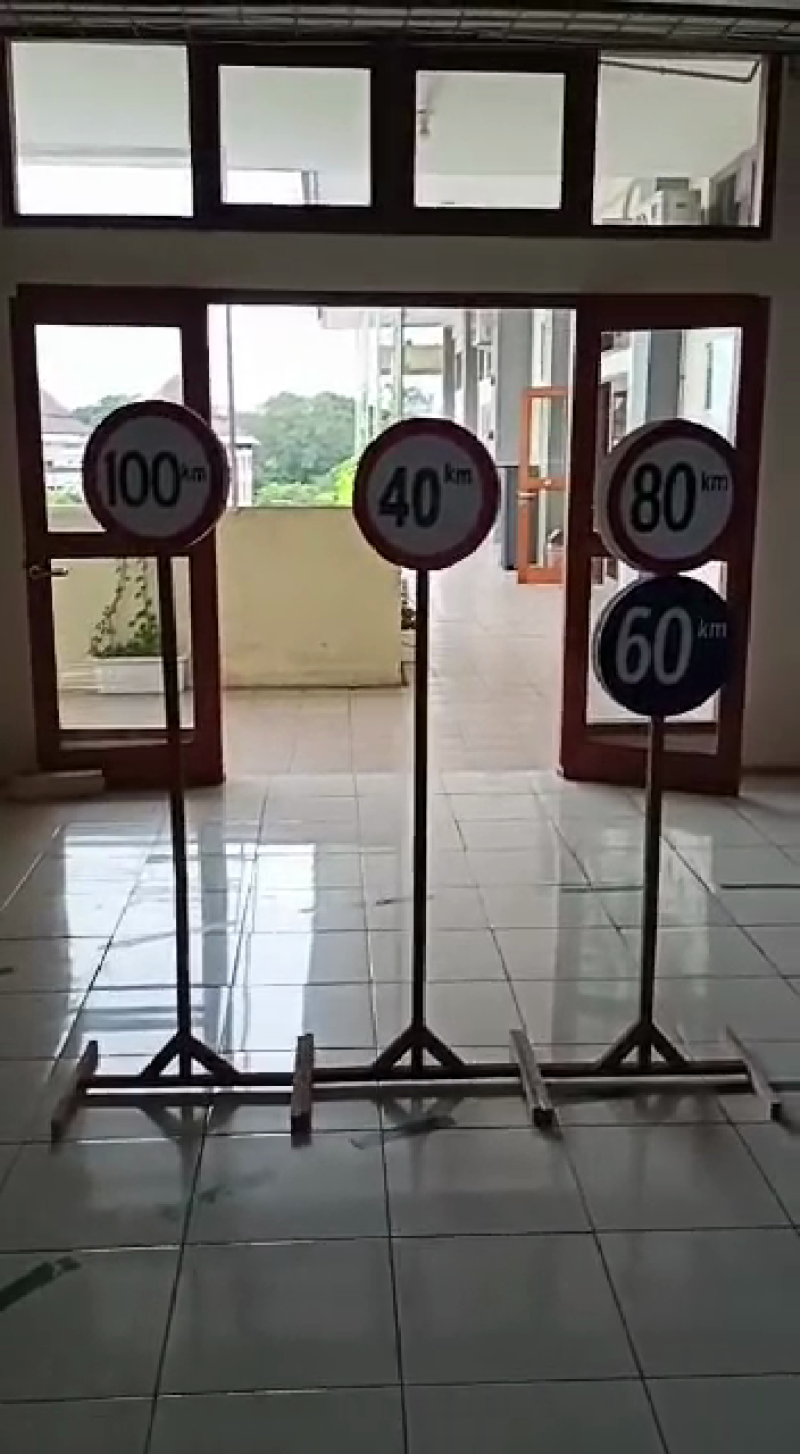batas maksimal 100kmperjam: (72, 392, 248, 566)
batas maksimal 40kmperjam: (344, 418, 507, 577)
batas maksimal 80kmperjam minimal 60kmperjam: (587, 418, 744, 746)
